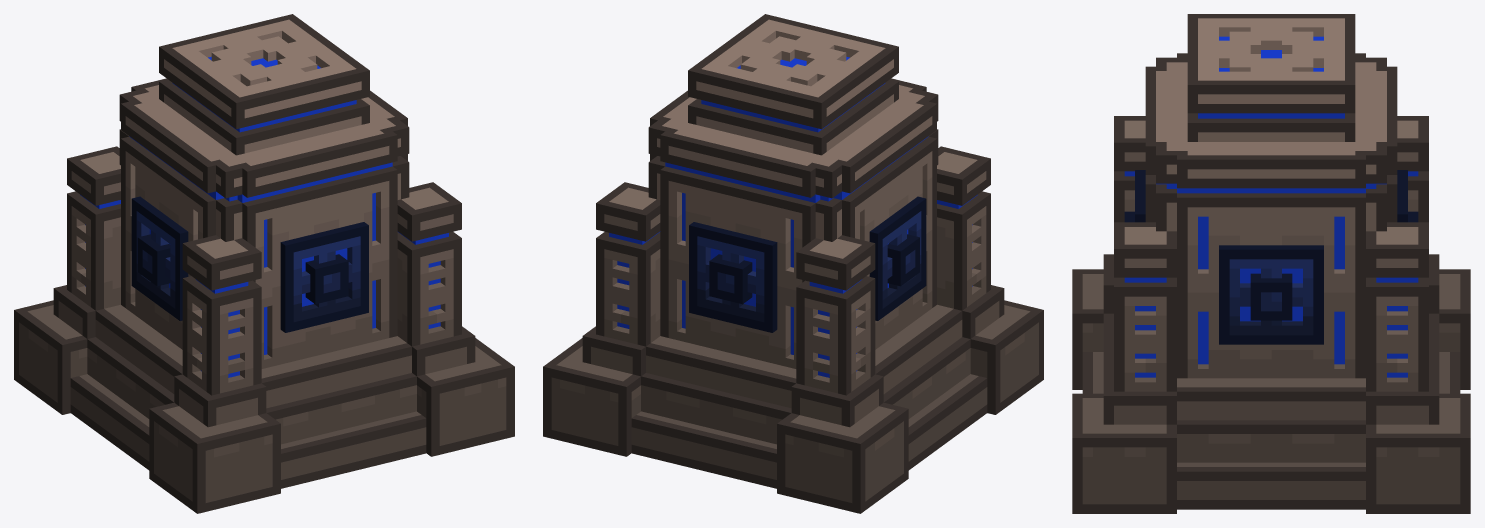
File: Trial Altars.fbx
The picture shows the model from 3 angles, left to right: view 1: azimuth 30°, elevation 25°; view 2: azimuth 150°, elevation 25°; view 3: azimuth 270°, elevation 25°; orthographic projection. The views are drawn at different scales.
Parts seen in each view (by area): view 1: Blue Trial Altar; view 2: Blue Trial Altar; view 3: Blue Trial Altar.
Part boxes in pixels (<box>): Blue Trial Altar: <box>14,14,514,513</box>; Blue Trial Altar: <box>543,14,1043,513</box>; Blue Trial Altar: <box>1072,14,1470,513</box>.
Size of the model in its own units: 0.76 by 0.76 by 0.8.
4 materials, 4 textured.
